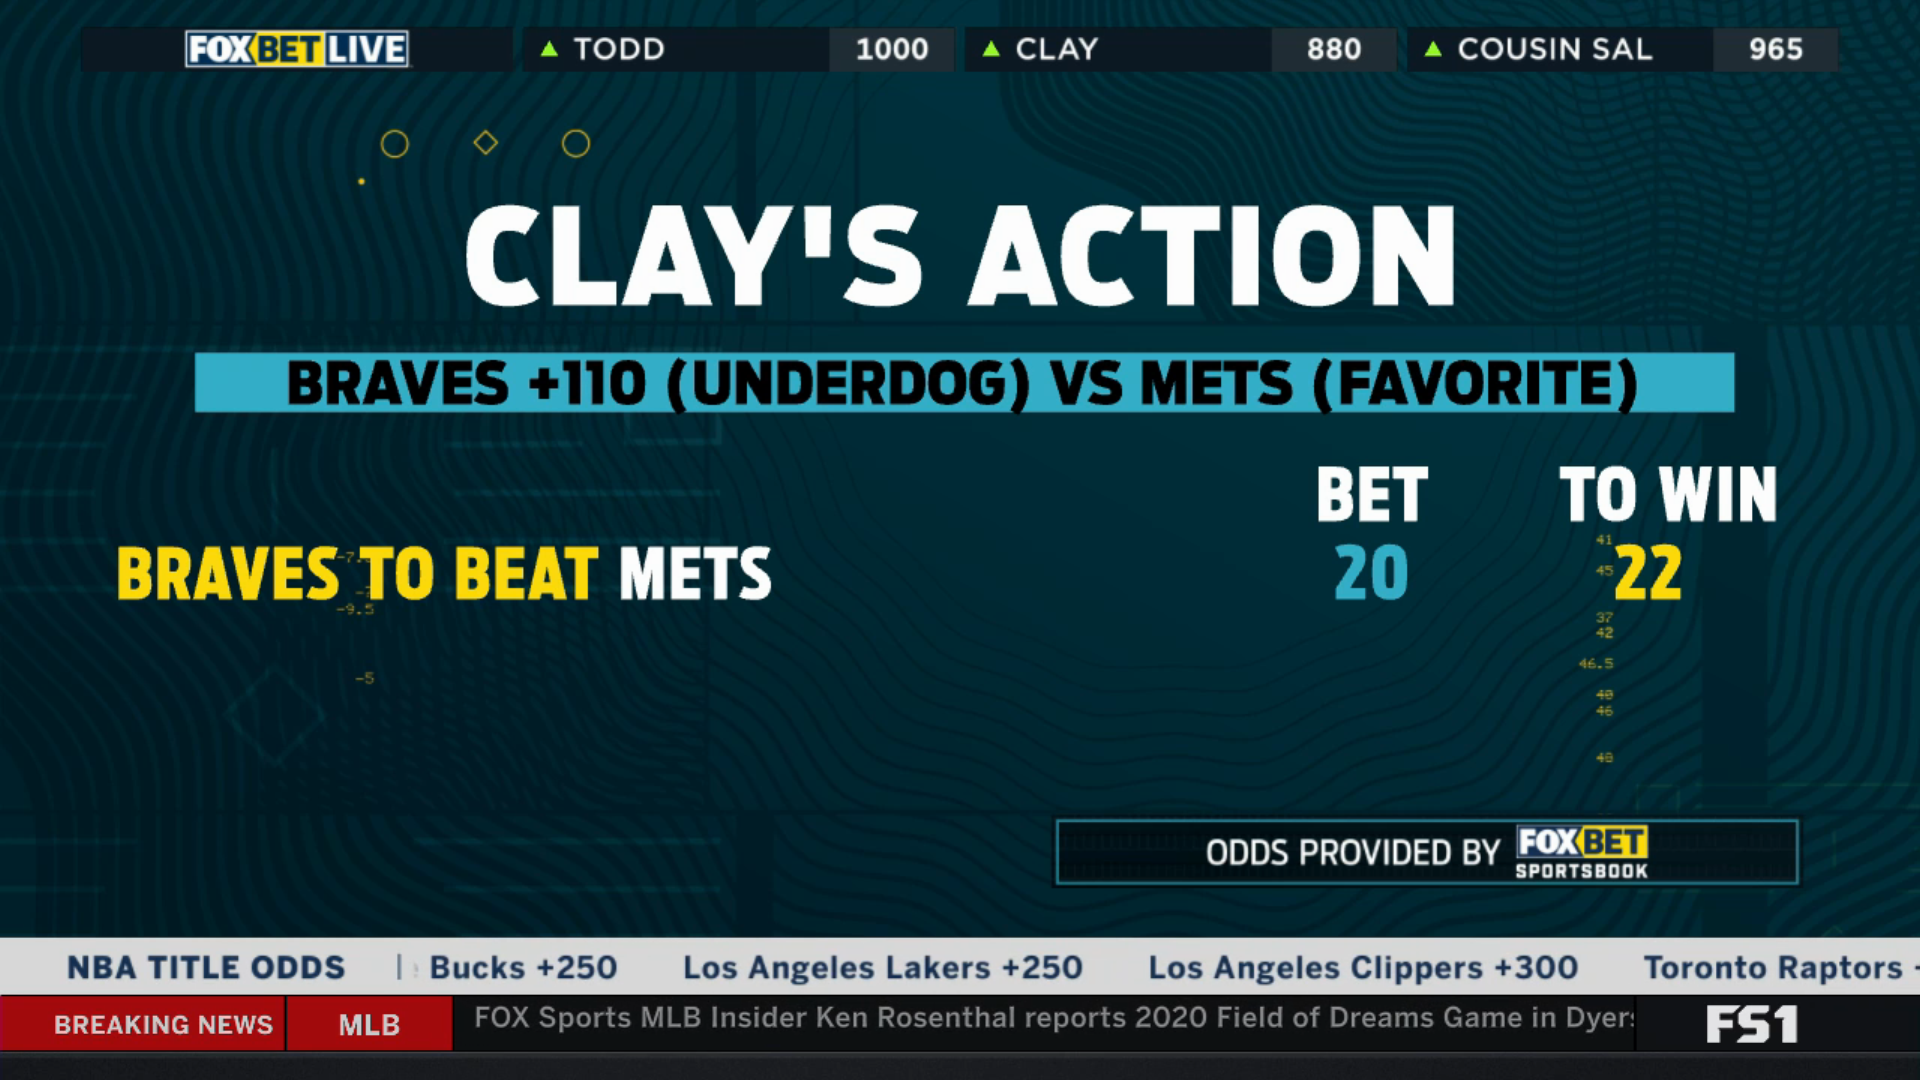Bet: (107, 531, 803, 618)
Bet Amount: (1307, 456, 1439, 617)
Subtitle: (179, 338, 1749, 429)
Title: (448, 193, 1476, 320)
To Win: (1547, 454, 1791, 617)
Top Bar: (73, 18, 1844, 80)
